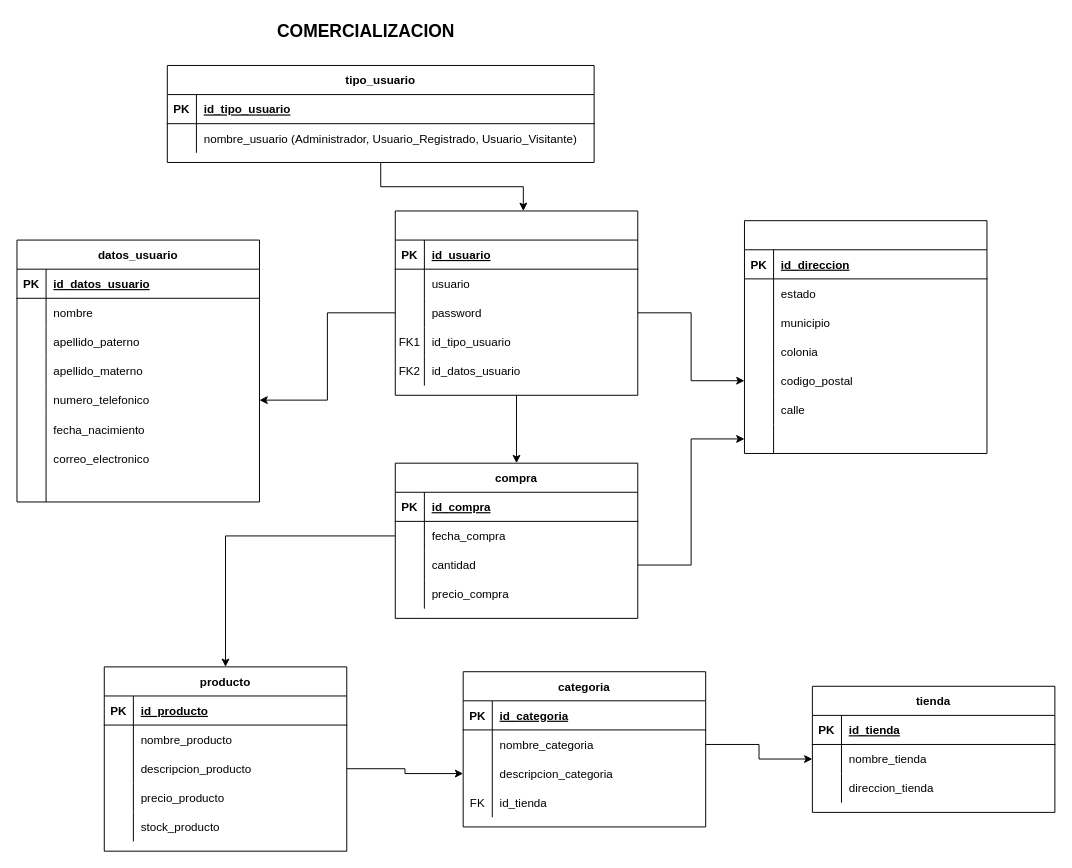
Some shapes in this 1072 by 868 pixel diagram are drawn without their labels. The box of each missing label's shape, as (x1, y1, x2, y2) in pixels:
direccion_usuario: (744, 220, 987, 453)
usuarios: (394, 210, 638, 395)
